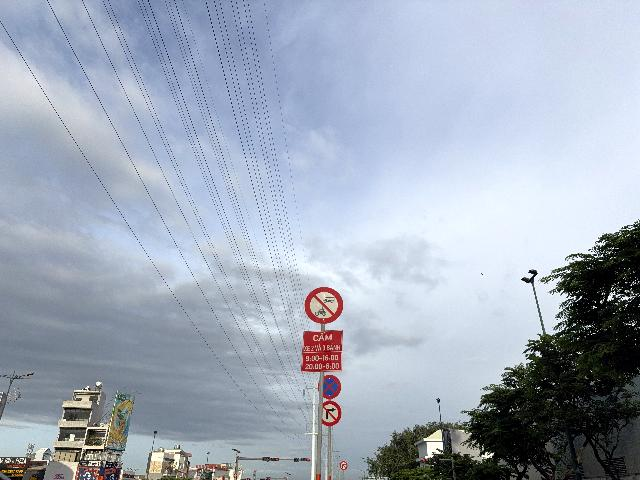cam-dung-va-do-xe: (317, 375, 342, 399)
cam-re-phai: (323, 400, 342, 426)
cam-xe-2-banh-3-banh: (305, 287, 343, 324)
